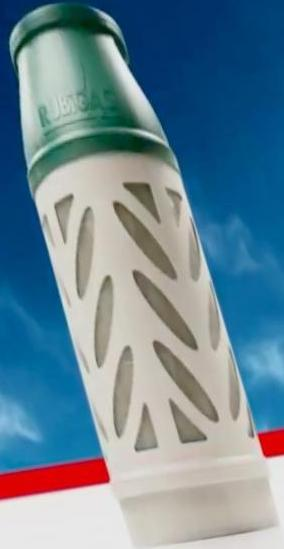cylinder: (1, 0, 284, 549)
